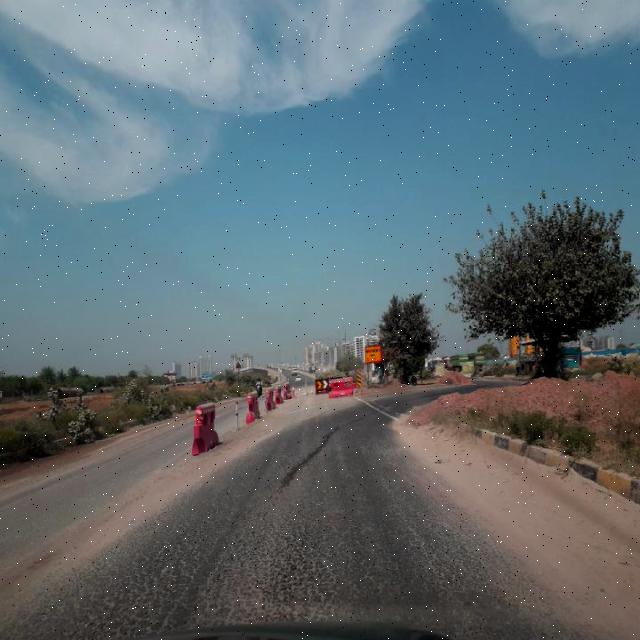D20: (7, 451, 500, 631)
